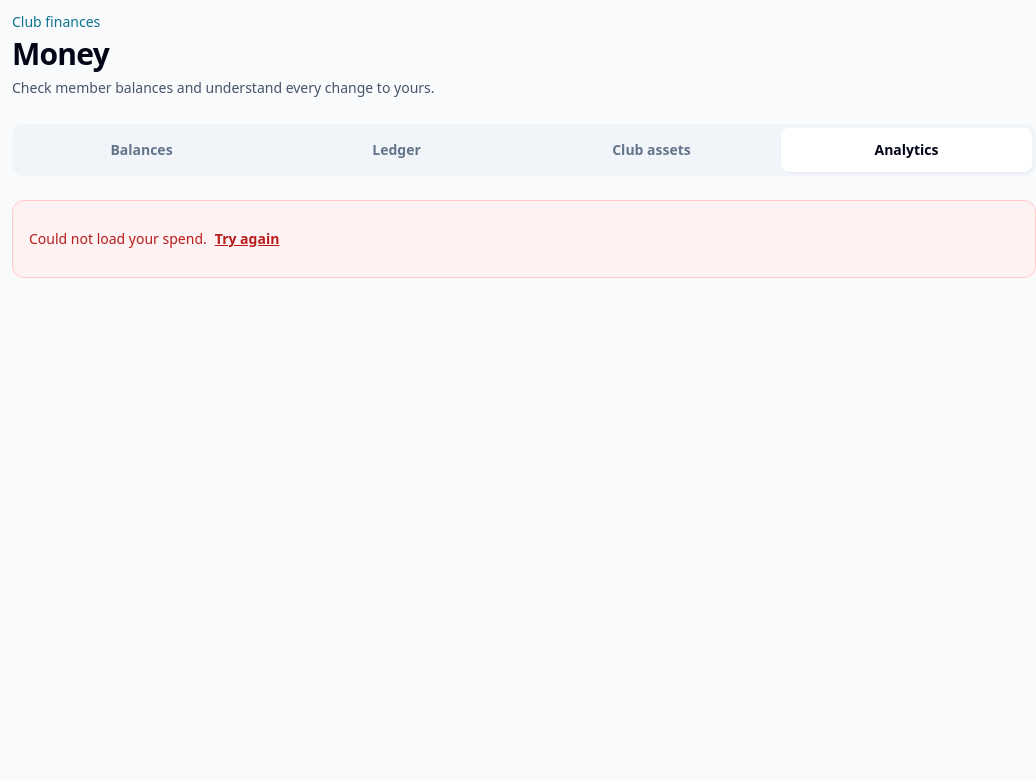
Scenario: Money › keeps an Analytics failure separate from balances and offers retry
Expected: the message shows "Could not load your spend", [29,229,207,248]
Click the button "Try again".
click(247, 239)  # box [215,217,279,261]
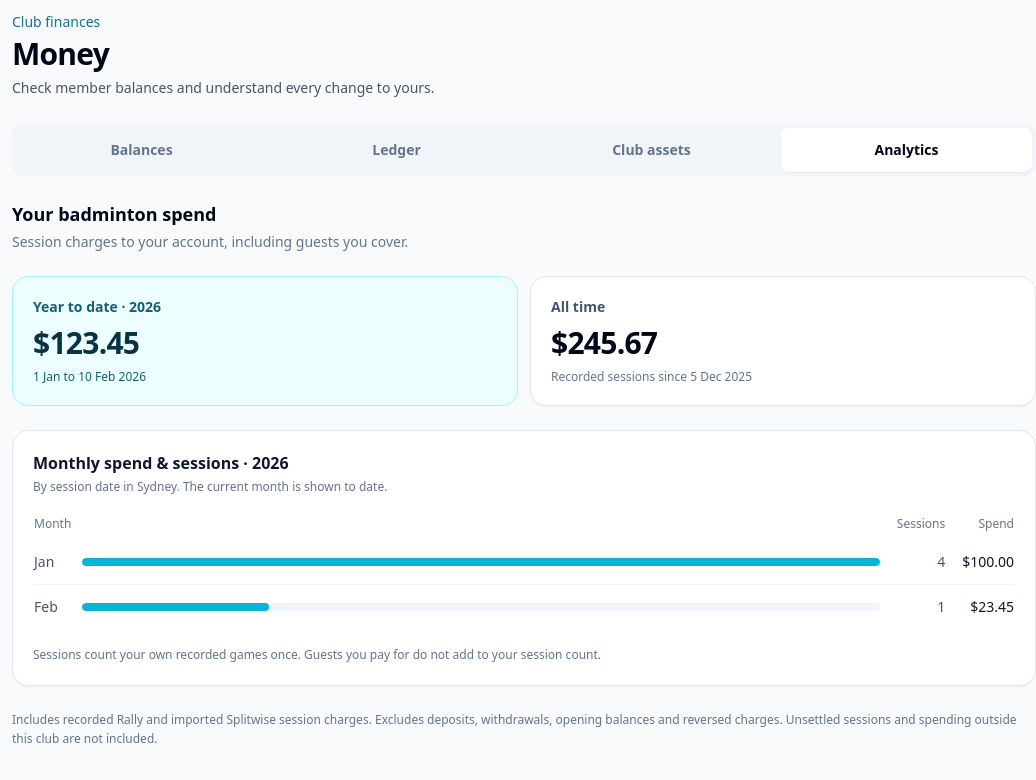
Expected: the text "$123.45" is shown, [33,322,139,363]
